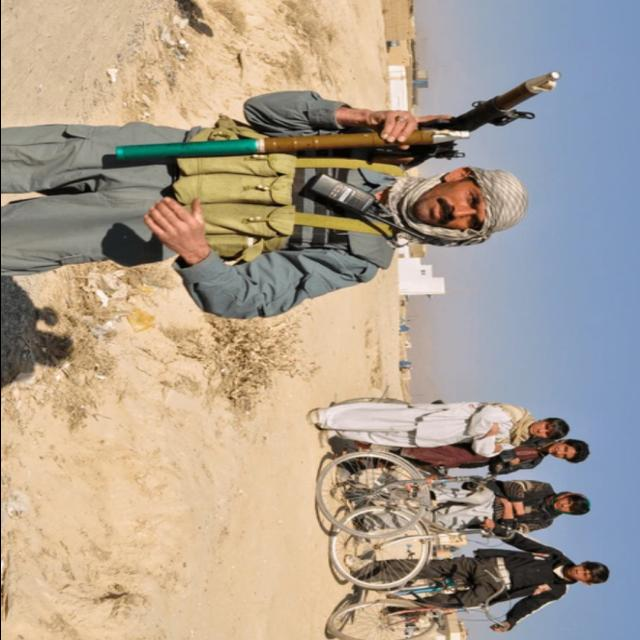civilian: (344, 517, 608, 632), (346, 480, 590, 546), (307, 402, 568, 458), (336, 436, 588, 486)
terrorist: (0, 69, 564, 319)
